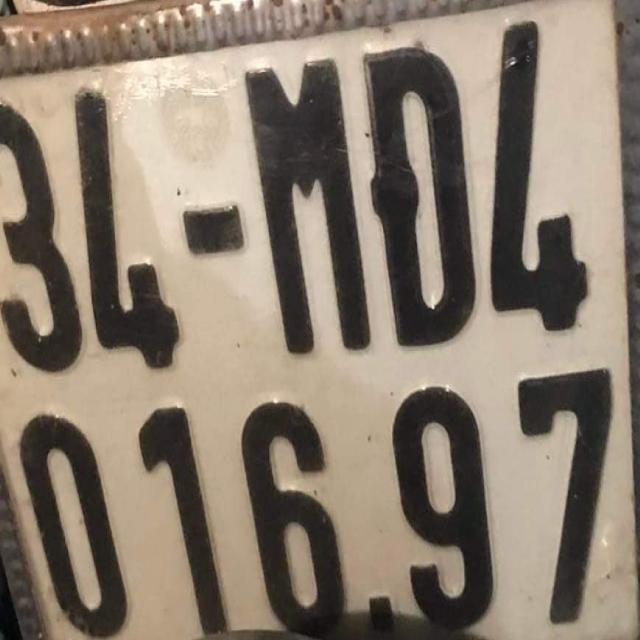0: (16, 399, 134, 640)
1: (136, 393, 235, 634)
3: (0, 88, 82, 376)
4: (482, 6, 600, 341), (73, 76, 189, 379)
6: (239, 389, 349, 631)
7: (513, 356, 617, 628)
9: (384, 373, 503, 634)
D: (362, 35, 485, 357)
M: (244, 46, 368, 358)
